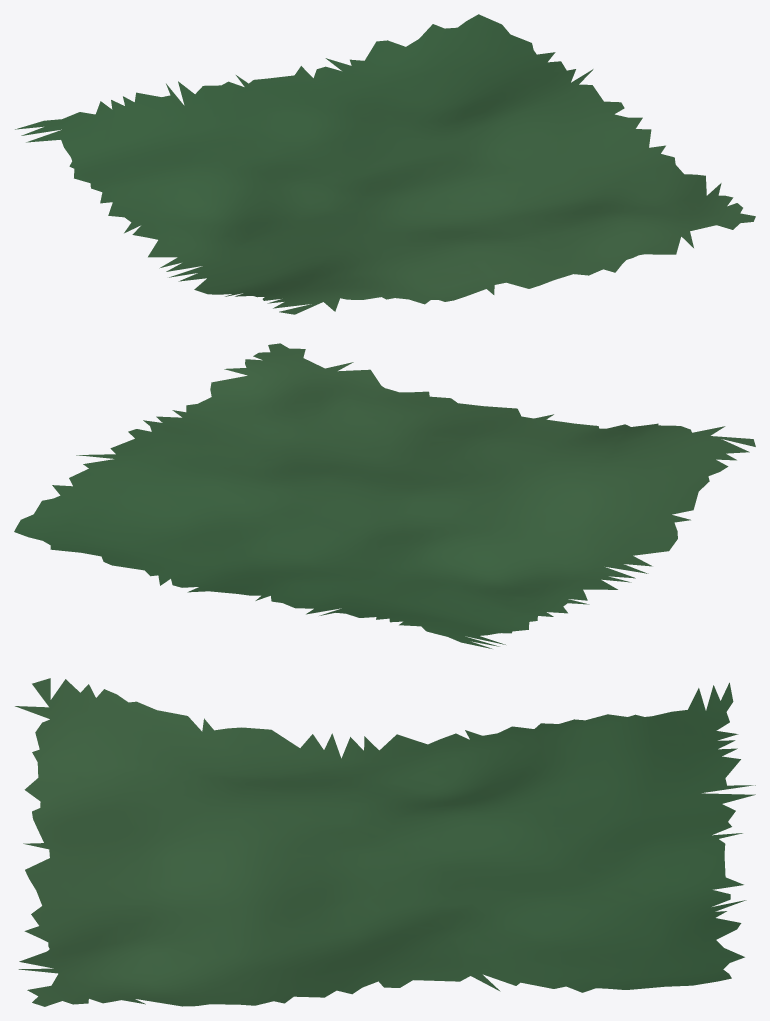
Rendered from payo_land_x1_y8.glb.
3 views of the same model, one above another, from view 1: azimuth 30°, elevation 25°; view 2: azimuth 150°, elevation 25°; view 3: azimuth 270°, elevation 25° (orthographic). The views are drawn at different scales.
Visible parts, largest first — view 1: payo_land_x1_y8; view 2: payo_land_x1_y8; view 3: payo_land_x1_y8.
Part boxes in pixels (x1,y1,x2,y2): payo_land_x1_y8: [15, 14, 755, 314]; payo_land_x1_y8: [14, 343, 755, 648]; payo_land_x1_y8: [15, 678, 755, 1006].
Bounding box in the file's own units: 277 × 23.74 × 275.
